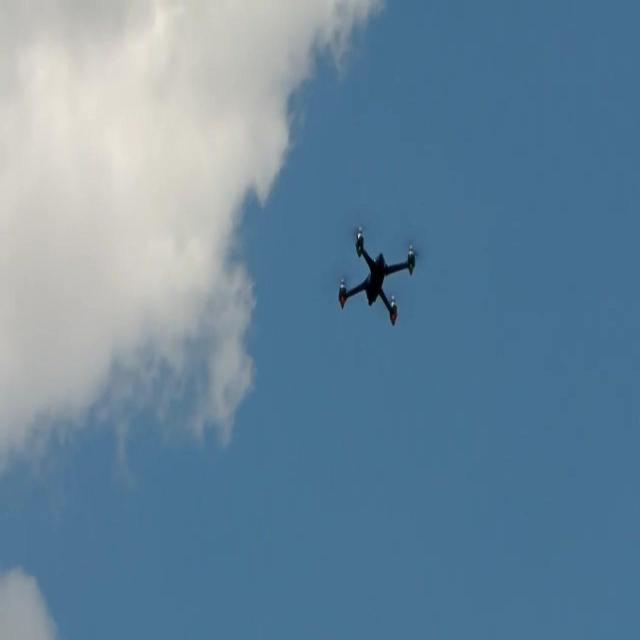drone: (336, 222, 416, 331)
